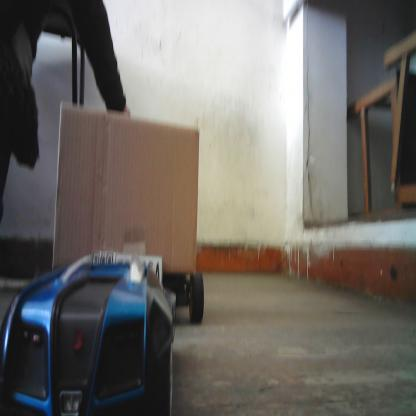LeadTruck: (54, 106, 203, 313)
